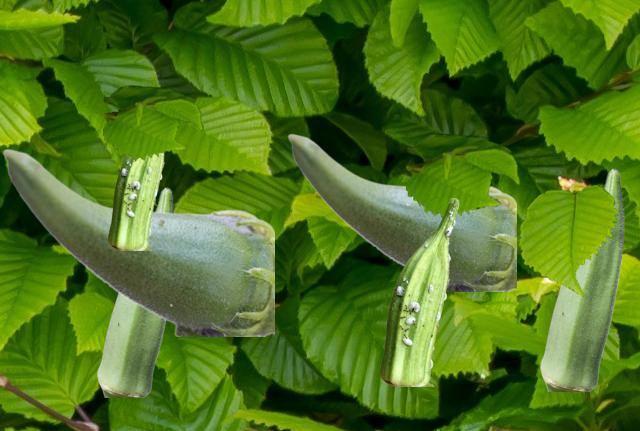okra: (2, 148, 273, 335), (287, 133, 515, 290), (540, 168, 623, 390), (97, 187, 174, 396), (380, 198, 458, 385), (108, 154, 165, 249)
